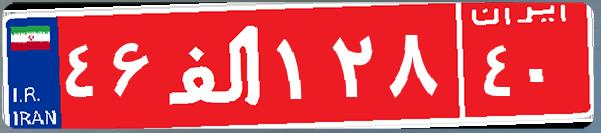0: (525, 38, 570, 115)
1: (273, 28, 330, 110)
2: (330, 28, 385, 110)
4: (57, 26, 110, 107), (475, 38, 525, 113)
6: (110, 28, 158, 105)
8: (385, 28, 445, 110)
الف: (158, 15, 273, 115)
